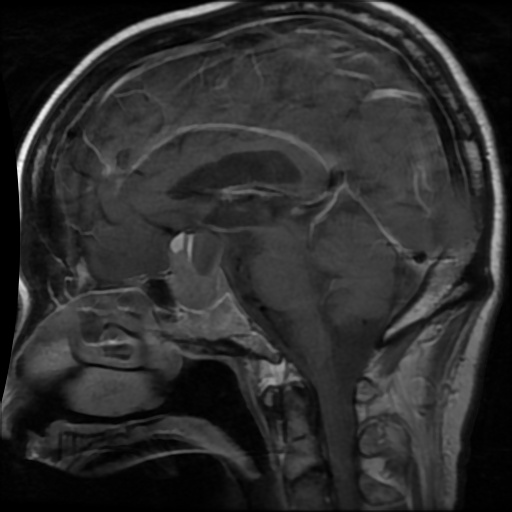pituitary: (169, 228, 226, 310)
